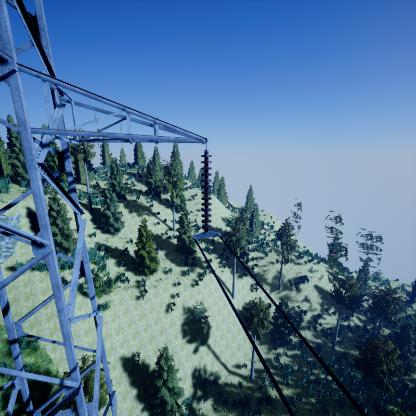insulator: (198, 153, 214, 232)
